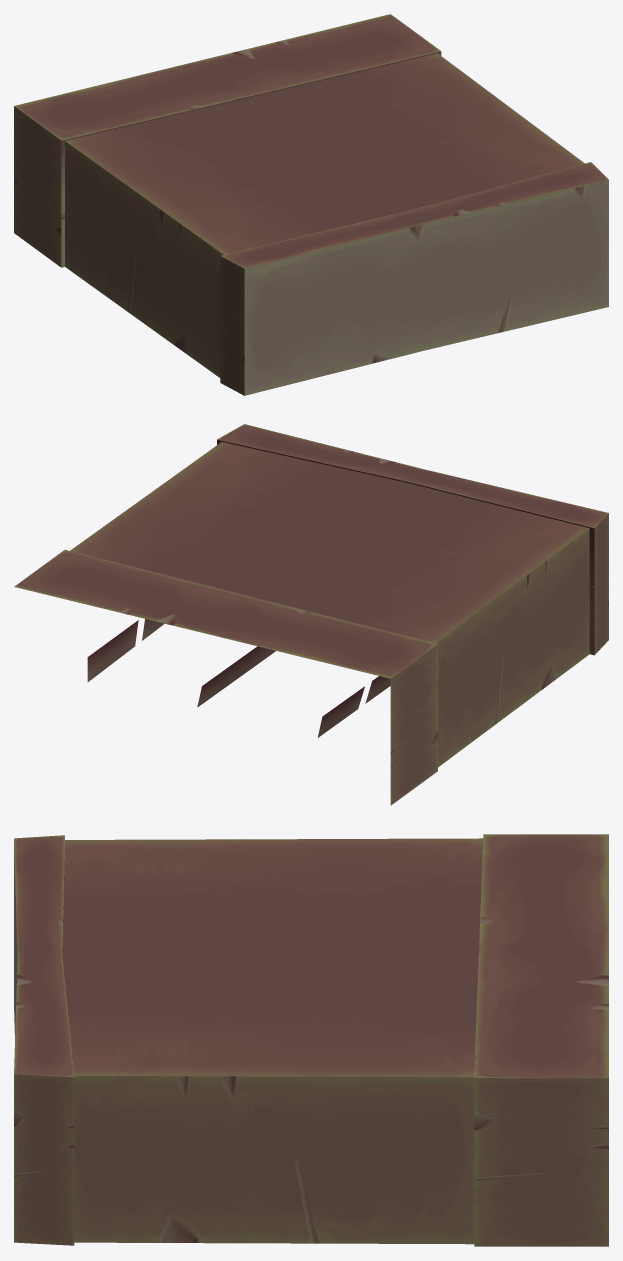
The model's file is bookcase_antique_books.glb.
The picture shows the model from 3 angles, top to bottom: view 1: azimuth 30°, elevation 25°; view 2: azimuth 150°, elevation 25°; view 3: azimuth 270°, elevation 25°; orthographic projection. The views are drawn at different scales.
Parts seen in each view (by area): view 1: books.bookcase_antique_books-Mesh[1], books.bookcase_antique_books-Mesh[0]; view 2: books.bookcase_antique_books-Mesh[1], books.bookcase_antique_books-Mesh[0]; view 3: books.bookcase_antique_books-Mesh[1].
Part boxes in pixels (x1=…): books.bookcase_antique_books-Mesh[1]: x1=14, y1=14, x2=608, y2=395; books.bookcase_antique_books-Mesh[0]: x1=61, y1=51, x2=441, y2=267; books.bookcase_antique_books-Mesh[1]: x1=14, y1=424, x2=608, y2=805; books.bookcase_antique_books-Mesh[0]: x1=87, y1=439, x2=594, y2=737; books.bookcase_antique_books-Mesh[1]: x1=14, y1=834, x2=608, y2=1246.
Bounding box in the file's own units: 3.1 × 1 × 3.2.
Materials: 3 (3 with a texture image).
